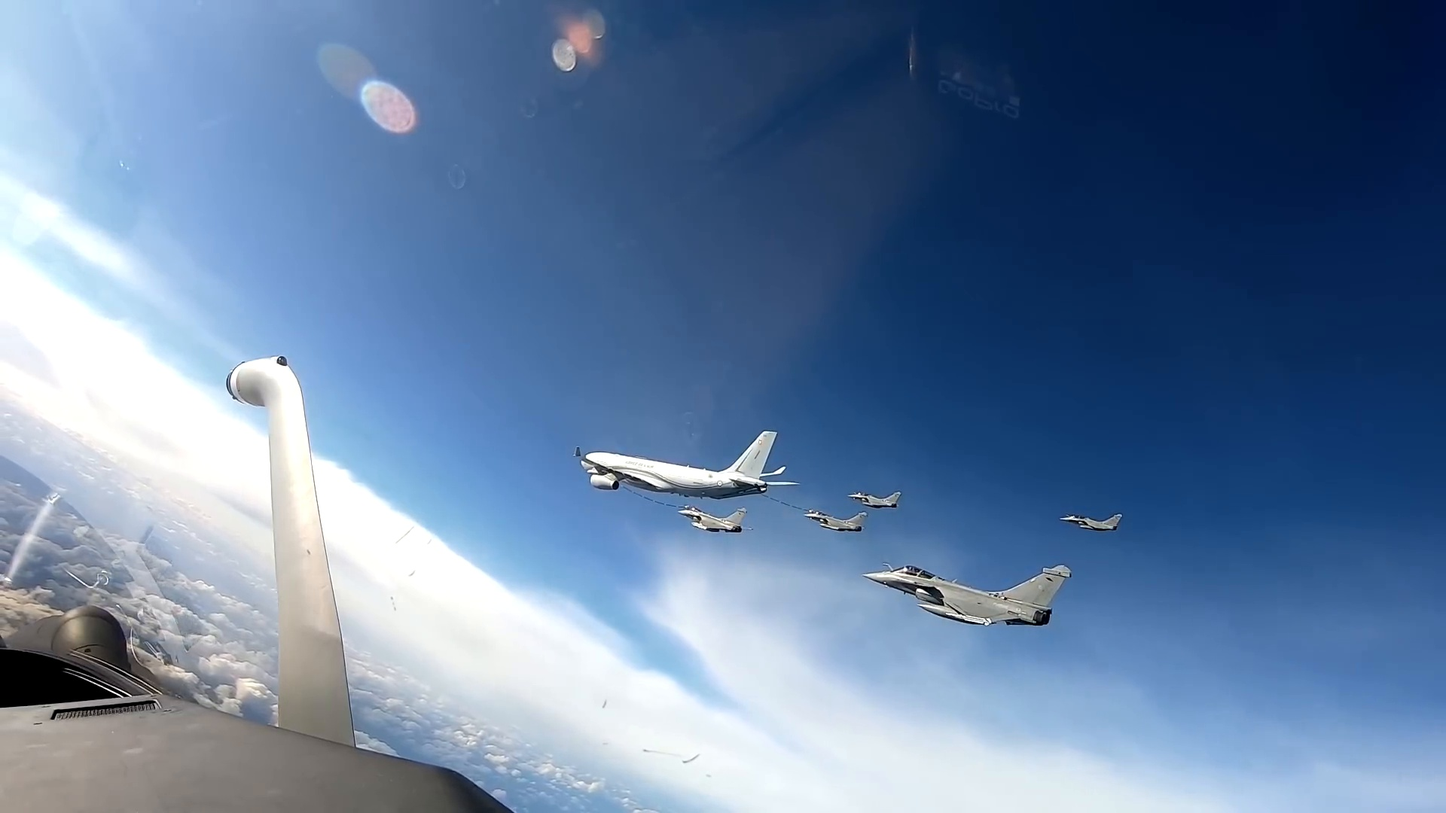Rafale: (862, 559, 1072, 628), (678, 504, 749, 534), (804, 509, 866, 533), (1060, 512, 1122, 532), (850, 489, 902, 509)
